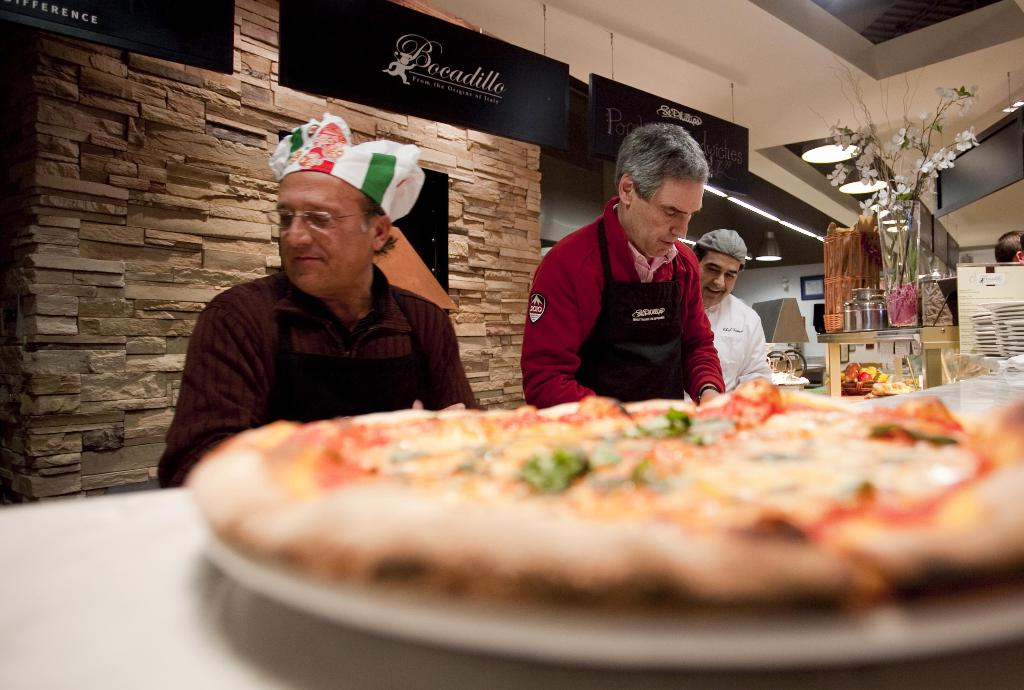pizza: (194, 372, 1022, 613)
